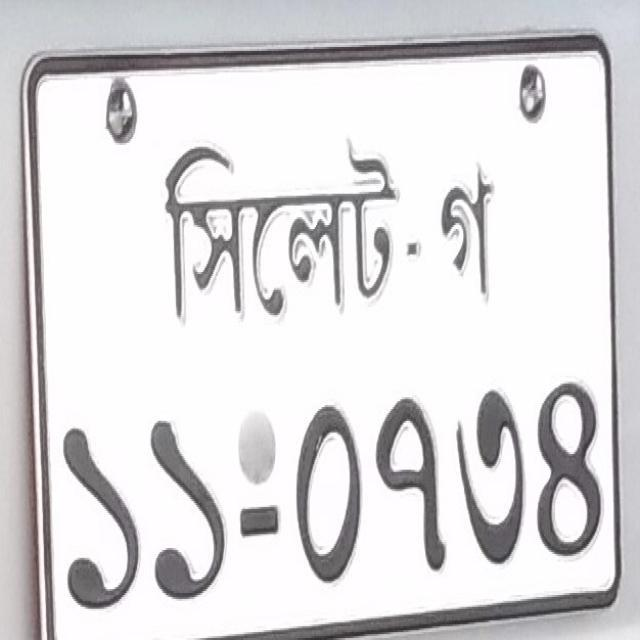cng: (163, 137, 400, 322)
numberplate: (19, 31, 623, 639)
